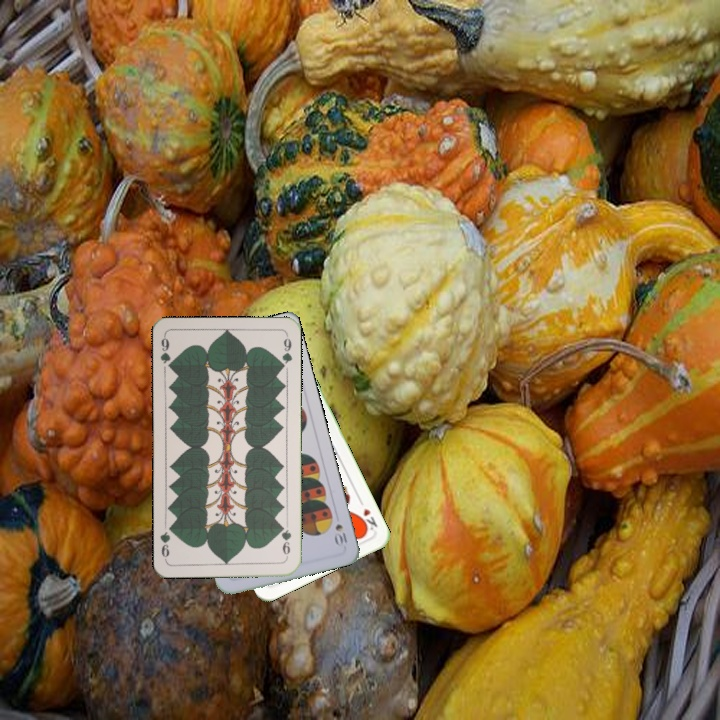G9: (156, 332, 175, 373), (277, 521, 294, 561)
HK: (354, 495, 380, 534)
S10: (330, 520, 350, 549)
